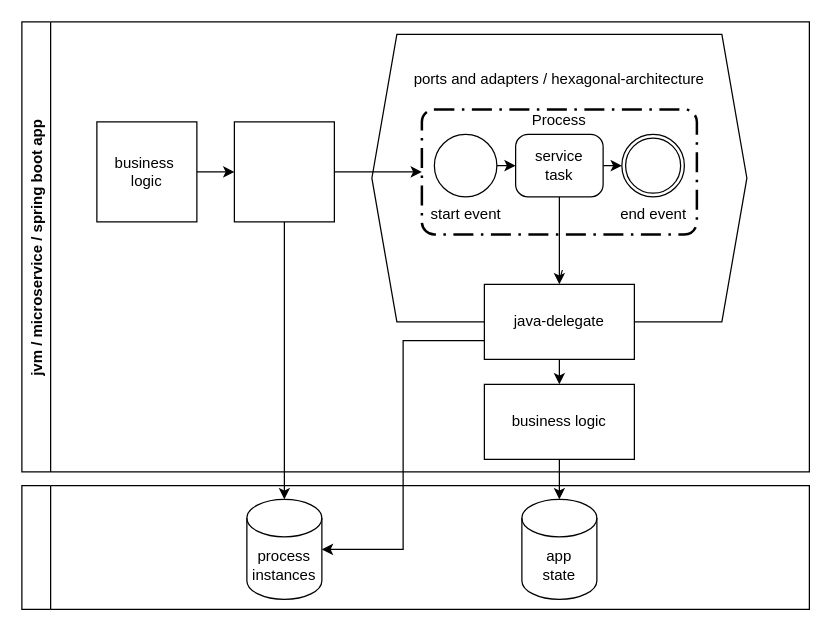
This 831x631 diagram has some shape labels left out. The shapes that lost their labels are listed below. From the top down, each one's centre as x and y in pixels, then its label:
At [283,171]: "workflow engine".
At [415,546]: "shared / cloud".
